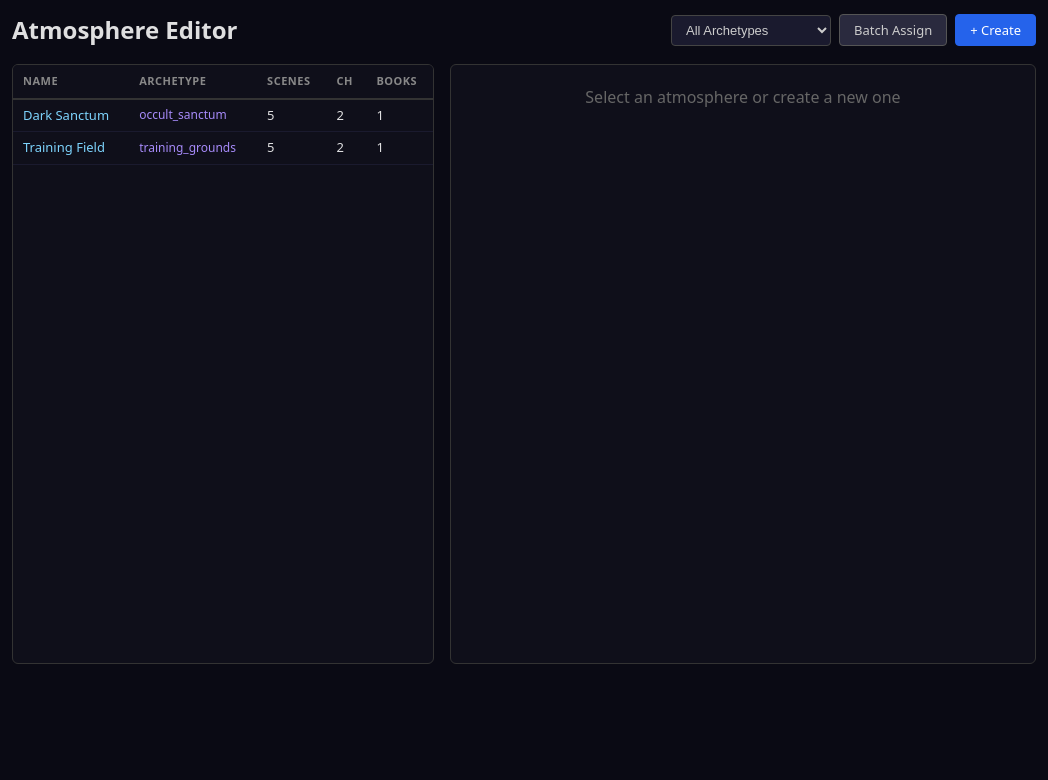
Test: AtmosphereEditor › filters by archetype
The width and height of the screenshot is (1048, 780).
Expected: the text "Dark Sanctum" is shown, [13,98,129,132]
Expected: the text "Training Field" is shown, [13,132,129,164]
Select "training_grounds" in the dropdown showing "All Archetypes". click: (751, 30)
box: [671,14,831,46]
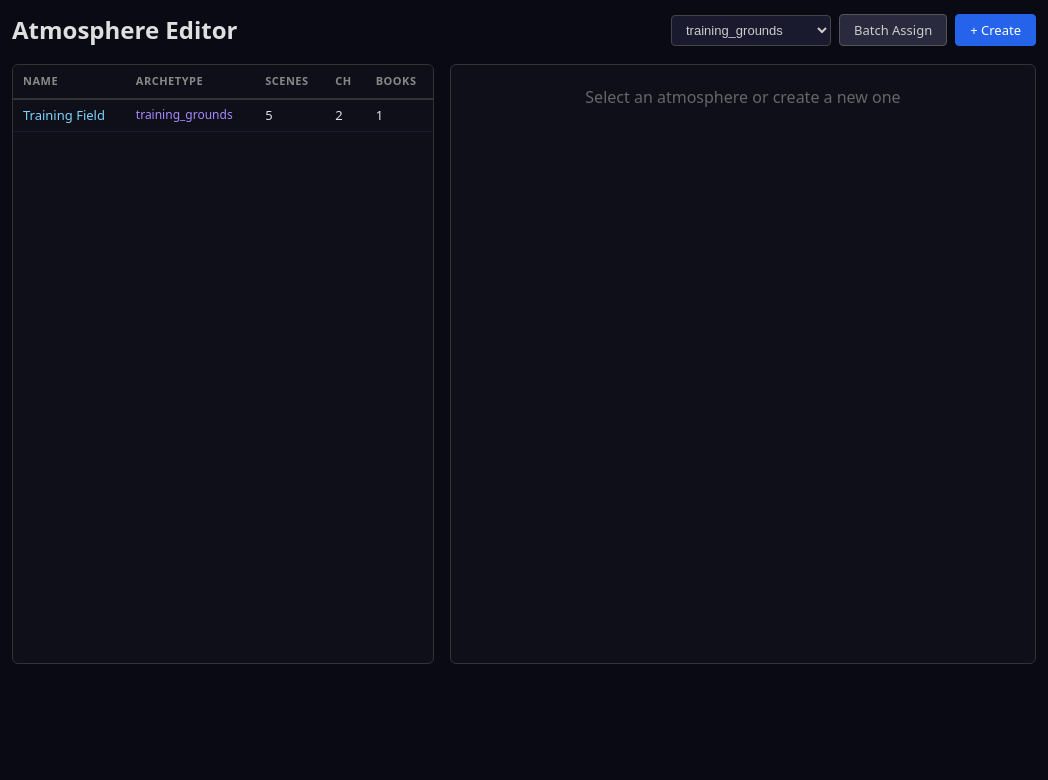
Expected: the text "Training Field" is shown, [13,98,126,132]
Expected: the text "Dark Sanctum" is gone
